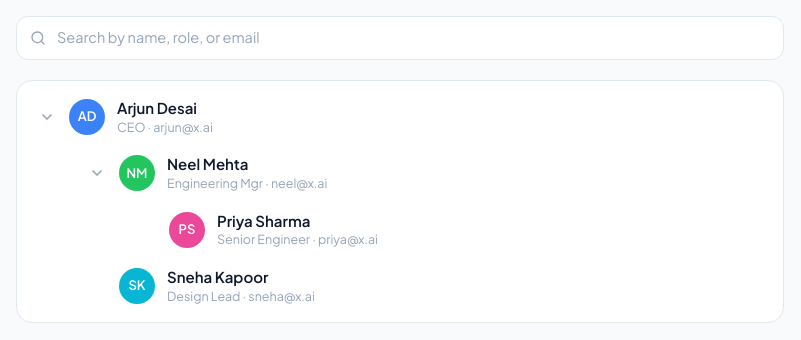
Test case: HierarchyTree › collapses a subtree when its row is clicked
Click the text "Neel Mehta". click: x=208, y=164
box: [167,154,248,173]
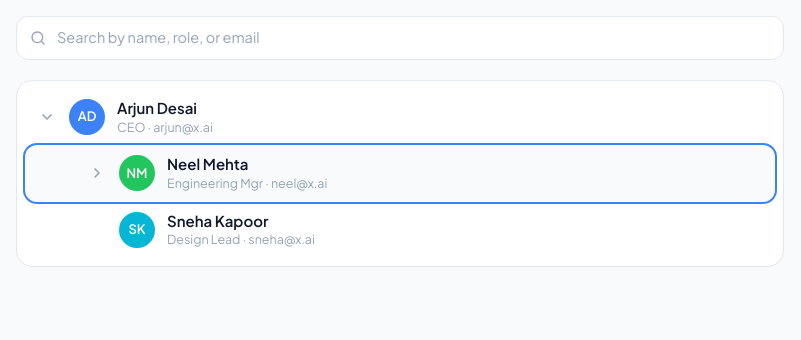
Expected: the text "Sneha Kapoor" is shown, [167,210,268,230]
Now the text "Priya Sharma" is gone
